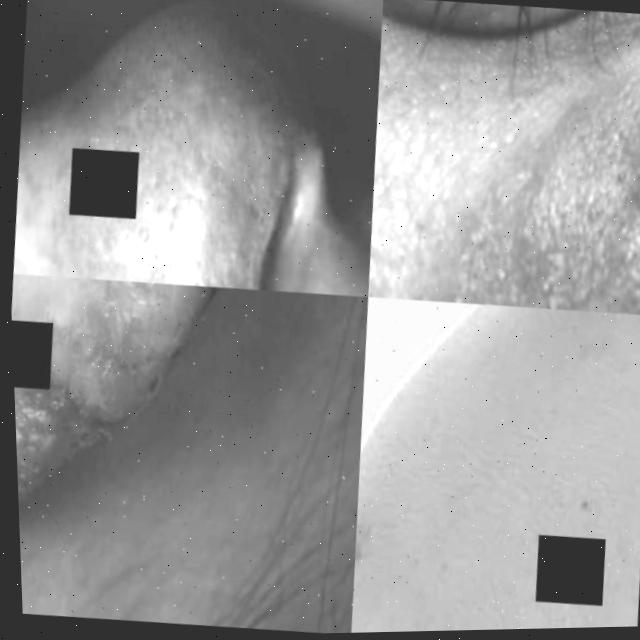lupus-detected: (3, 0, 394, 304), (10, 266, 326, 580), (356, 0, 640, 321)
